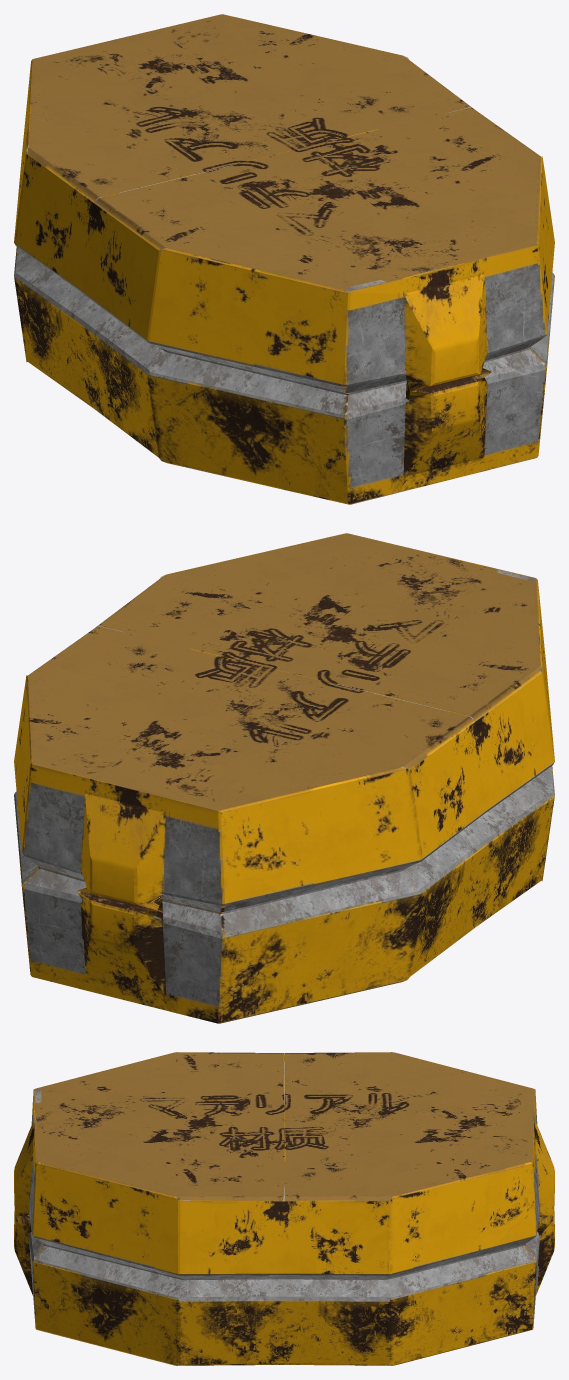
File: cuba2.glb
3 views of the same model, one above another, from view 1: azimuth 30°, elevation 25°; view 2: azimuth 150°, elevation 25°; view 3: azimuth 270°, elevation 25° (orthographic). The views are drawn at different scales.
Parts seen in each view (by area): view 1: Cube.002; view 2: Cube.002; view 3: Cube.002.
Boxes of the visible parts, left/top/right/bottom form: Cube.002: left=14, top=14, right=554, bottom=504; Cube.002: left=14, top=533, right=554, bottom=1023; Cube.002: left=14, top=1052, right=554, bottom=1365.
Size of the model in its own units: 2.72 by 1.37 by 3.97.
Materials: 1 (1 with a texture image).
